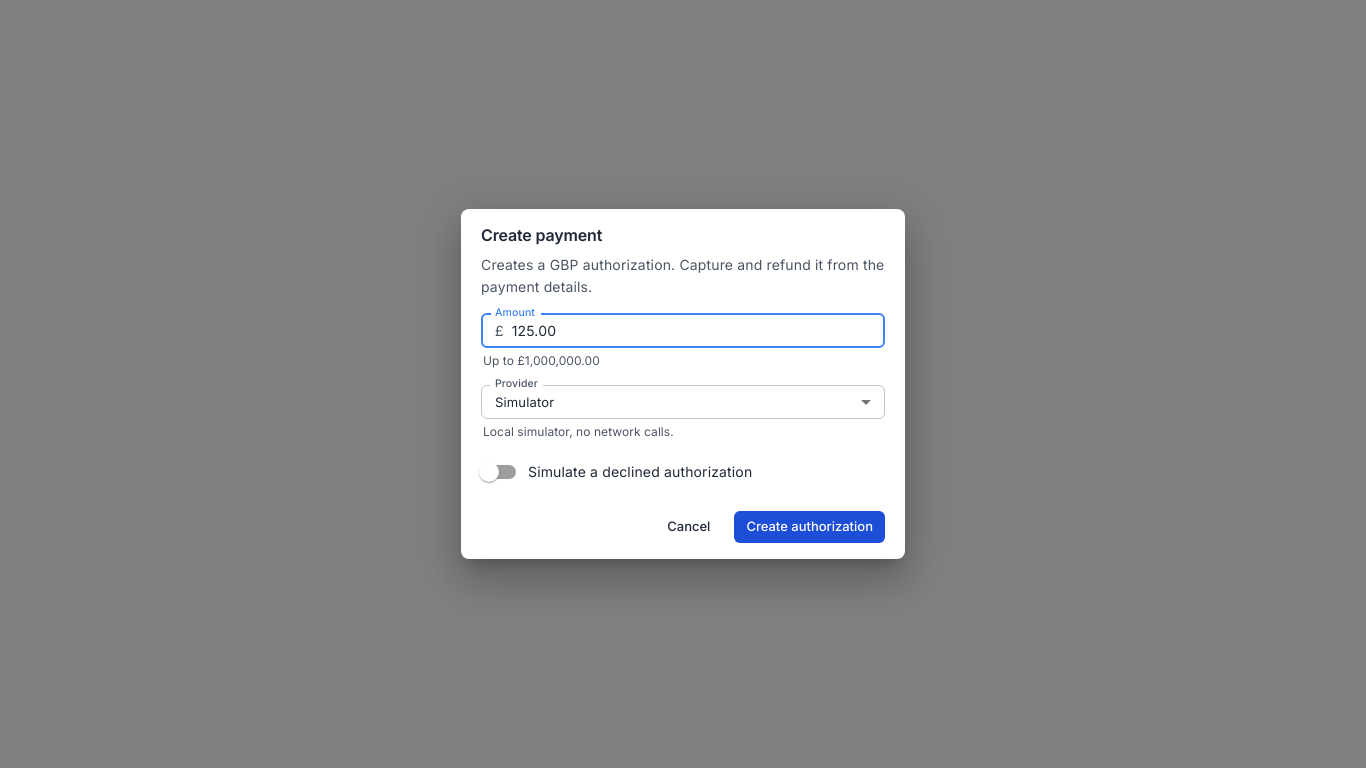
Test: Create payment dialog › keeps the dialog open, the typed amount, and shows the backend error when the API rejects
Step 1. Replace the text in the field labelled "Amount" with "42.00" → (698,331), box [512,314,885,348]
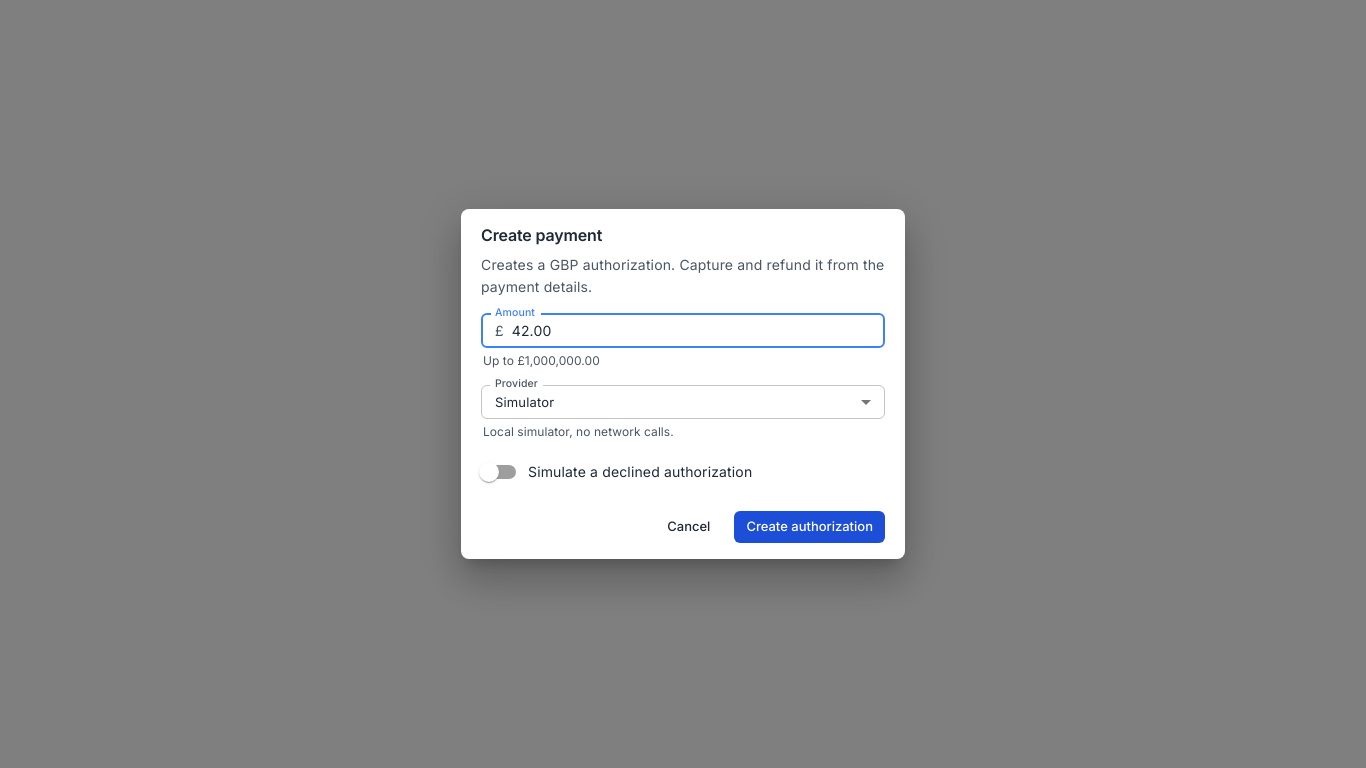
Step 2. Click the button "Create authorization" → (810,527), box [734,511,885,543]
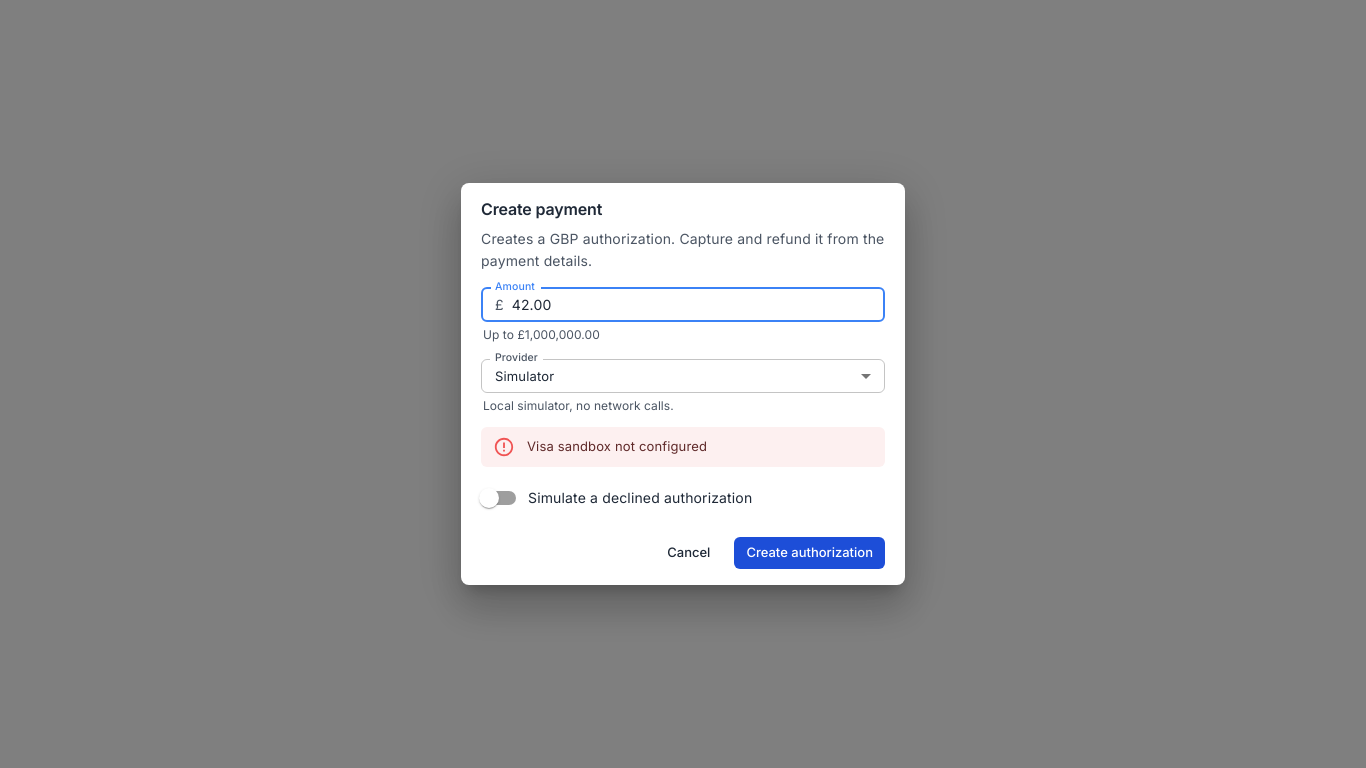
Expected: the text "Visa sandbox not configured" is shown, [527,438,707,454]
